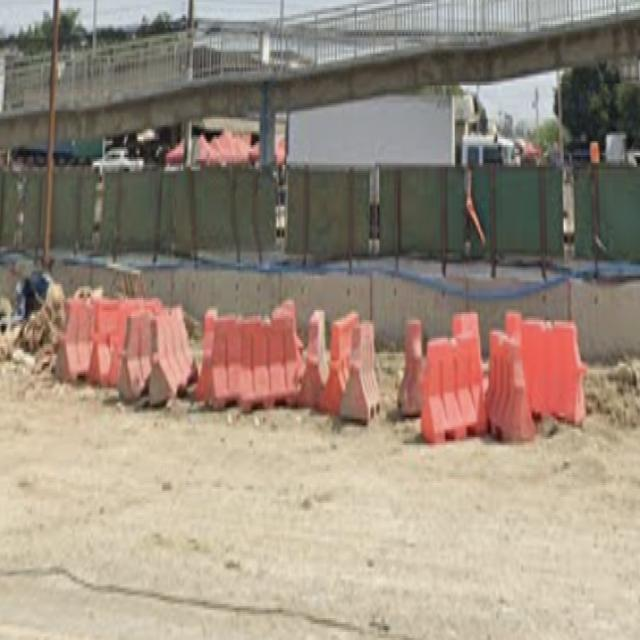fallen_object: (49, 277, 196, 419), (395, 292, 512, 452), (476, 307, 590, 468), (283, 305, 406, 433), (189, 290, 314, 410)
